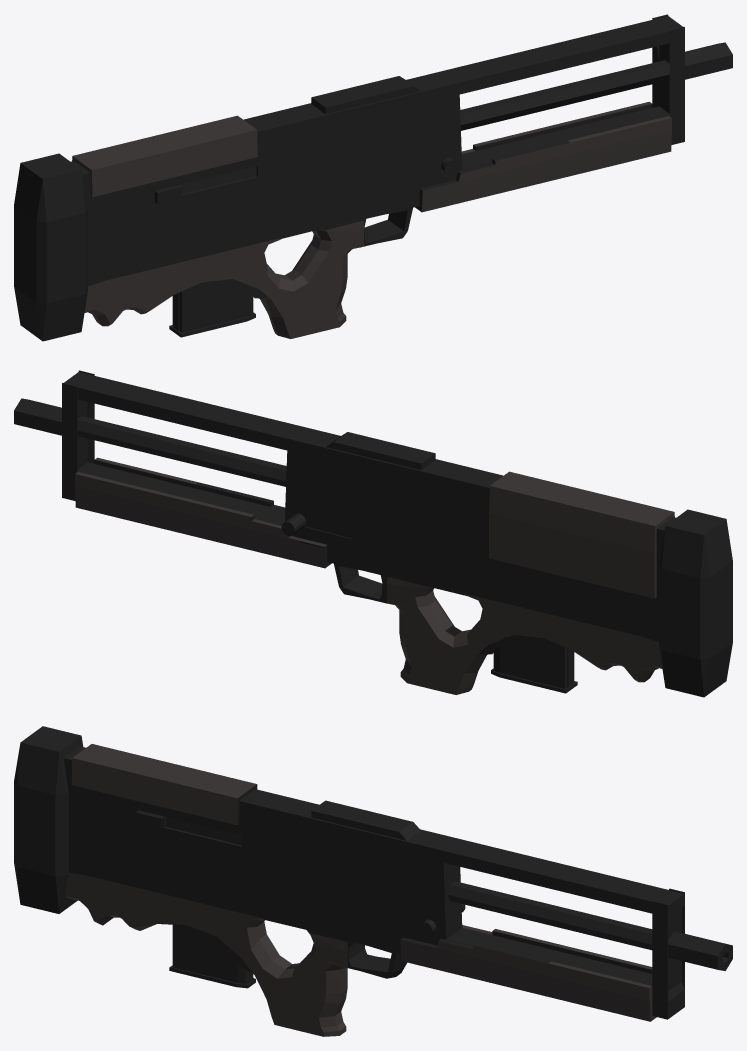
Rendered from AutoSniperRifle.gltf.
The picture shows the model from 3 angles, top to bottom: view 1: azimuth 30°, elevation 25°; view 2: azimuth 150°, elevation 25°; view 3: azimuth 330°, elevation 25°; orthographic projection.
Visible parts, largest first — view 1: Cube.002 (×2), beveled_cuboid, mesh_selection, CheeckPad, cylinder, tube, Cube.002_selection; view 2: Cube.002 (×2), CheeckPad, beveled_cuboid, mesh_selection, cylinder, tube; view 3: Cube.002 (×2), mesh_selection, beveled_cuboid, CheeckPad, cylinder, tube, Cube.002_selection.
Part boxes in pixels (box(x1,y1,x2,y2)): Cube.002 (×2): box(71, 14, 684, 338); beveled_cuboid: box(14, 153, 87, 341); mesh_selection: box(415, 101, 671, 212); CheeckPad: box(72, 115, 257, 197); cylinder: box(460, 60, 669, 130); tube: box(685, 42, 732, 79); Cube.002_selection: box(181, 166, 256, 193); Cube.002 (×2): box(62, 370, 675, 694); CheeckPad: box(489, 471, 674, 598); beveled_cuboid: box(659, 509, 732, 697); mesh_selection: box(75, 457, 331, 568); cylinder: box(77, 416, 286, 486); tube: box(14, 398, 61, 435); Cube.002 (×2): box(63, 746, 684, 1036); mesh_selection: box(400, 925, 656, 1021); beveled_cuboid: box(14, 726, 83, 913); CheeckPad: box(71, 744, 257, 825); cylinder: box(447, 881, 652, 950); tube: box(668, 931, 732, 971); Cube.002_selection: box(166, 817, 241, 845).
Bounding box in the file's own units: 0.8469 × 0.2581 × 0.0734.
1 material, 1 textured.
